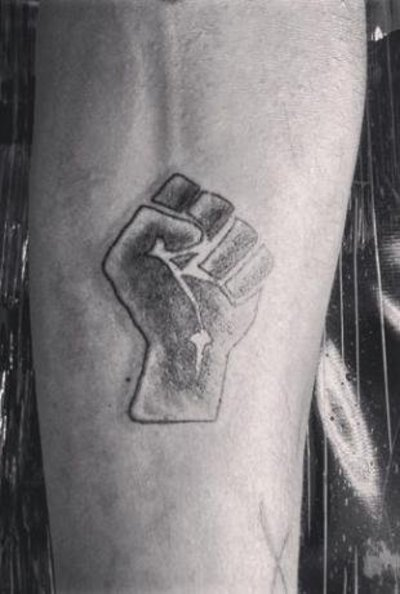closedhandfront: (96, 155, 278, 367)
